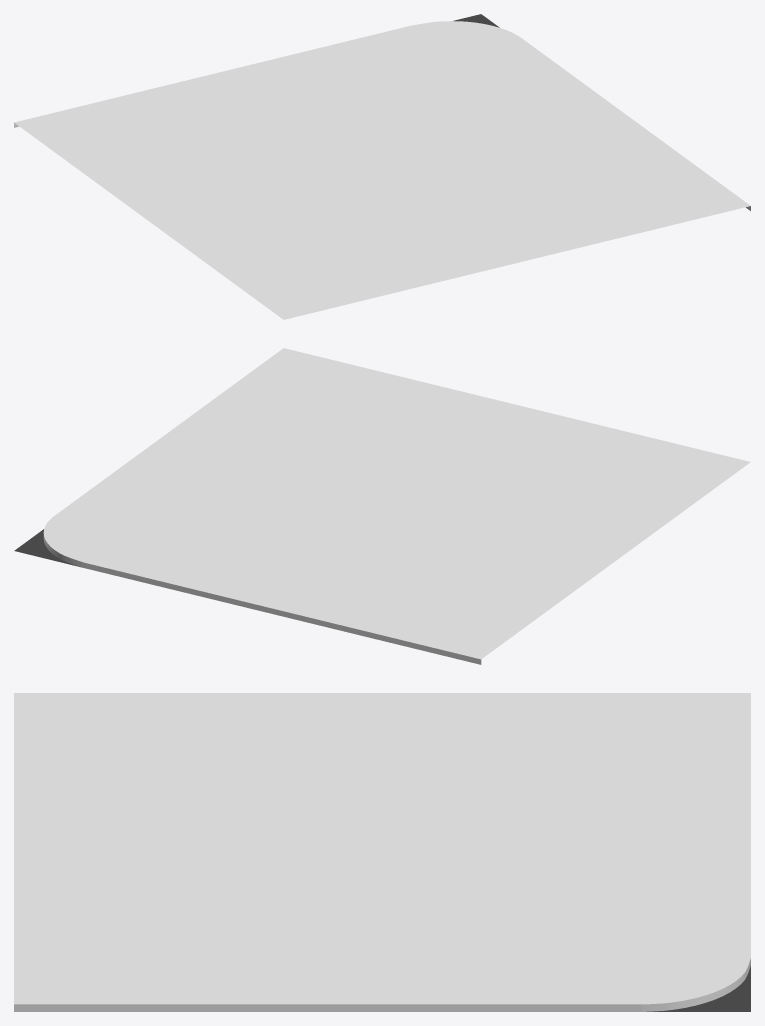
File: pavement intersection edge.fbx
3 renders of one model, top to bottom at view 1: azimuth 30°, elevation 25°; view 2: azimuth 150°, elevation 25°; view 3: azimuth 270°, elevation 25°, orthographic. The views are drawn at different scales.
Visible parts, largest first — view 1: pavement_intersection_edge; view 2: pavement_intersection_edge; view 3: pavement_intersection_edge.
Part boxes in pixels (x1,y1,x2,y2): pavement_intersection_edge: (14, 14, 750, 319); pavement_intersection_edge: (14, 348, 750, 664); pavement_intersection_edge: (14, 693, 750, 1011).
Size of the model in its own units: 1000 by 11.2 by 1000.
